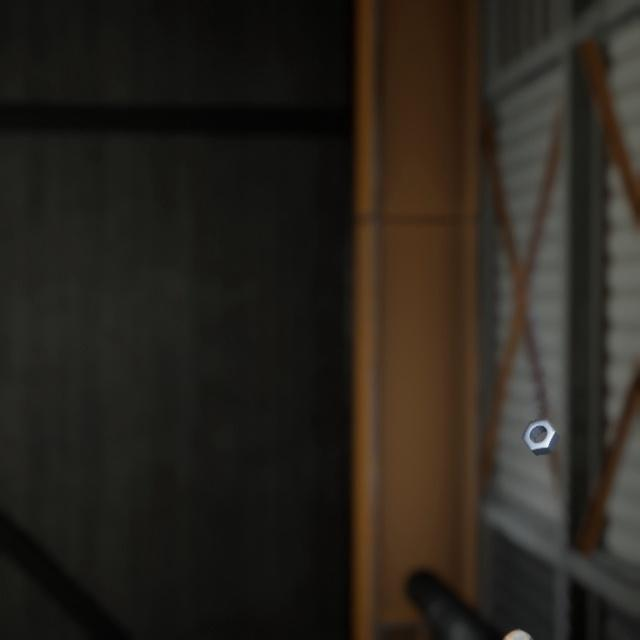bolt: (497, 599, 543, 640)
nut: (517, 394, 564, 439)
